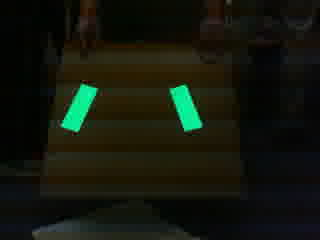target: (58, 81, 205, 134)
